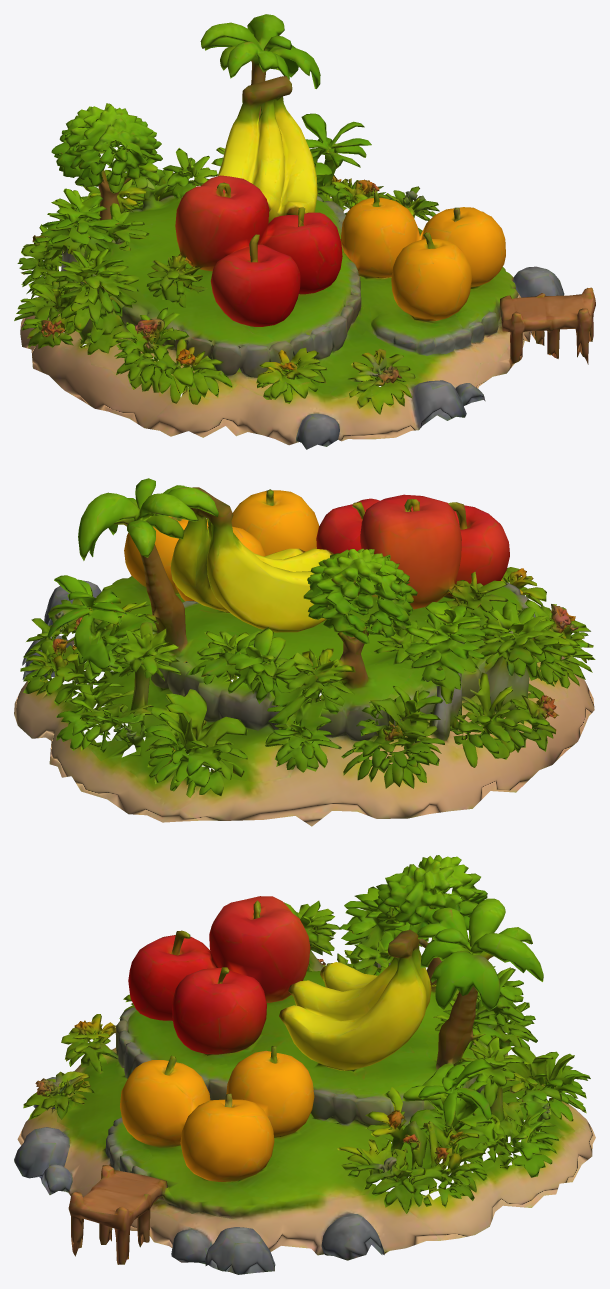
Rendered from isl-02.glb.
The picture shows the model from 3 angles, top to bottom: view 1: azimuth 30°, elevation 25°; view 2: azimuth 150°, elevation 25°; view 3: azimuth 270°, elevation 25°; orthographic projection. The views are drawn at different scales.
Parts seen in each view (by area): view 1: world; view 2: world; view 3: world.
Part boxes in pixels (x1,y1,x2,y2): world: (14,14,595,449); world: (14,478,595,826); world: (14,855,595,1274).
Size of the model in its own units: 0.9908 by 0.4721 by 0.9399.
1 material, 1 textured.
